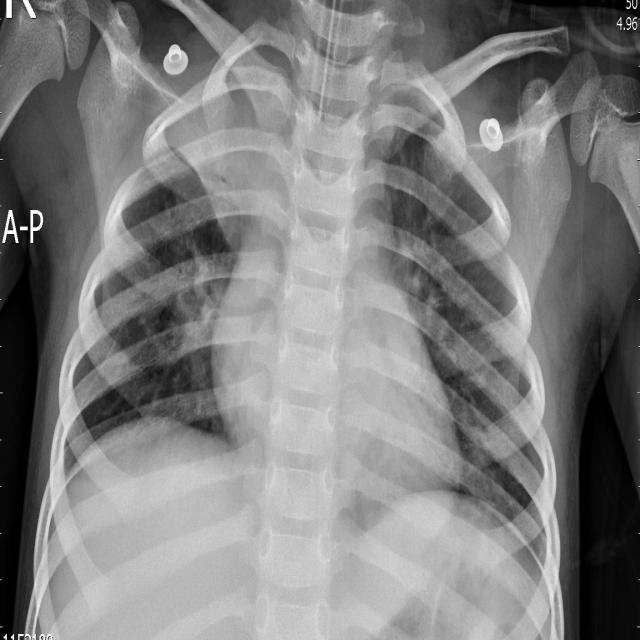high-pneumonia: (165, 84, 273, 256)
low-pneumonia: (161, 243, 230, 394), (401, 232, 465, 387), (376, 75, 439, 188)
